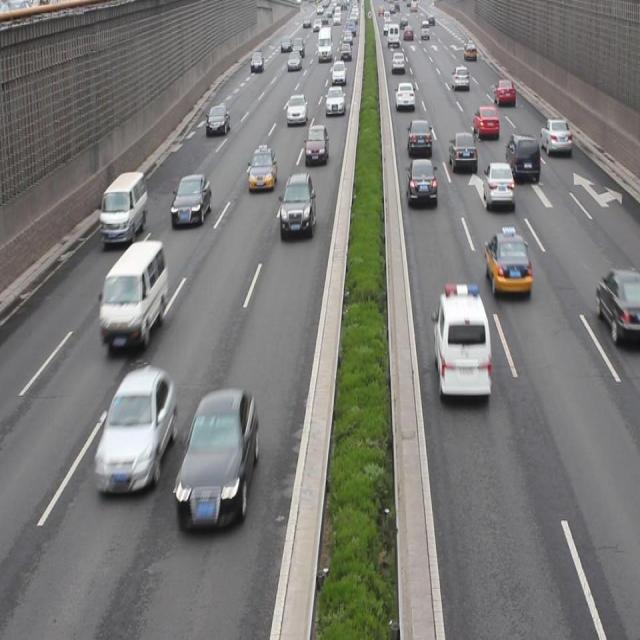car: (173, 386, 257, 528), (94, 368, 176, 492), (594, 266, 640, 344), (484, 227, 530, 300), (278, 174, 315, 238), (170, 174, 211, 227), (504, 132, 540, 184), (482, 161, 514, 211), (404, 157, 436, 204), (248, 143, 276, 191), (446, 130, 476, 174), (539, 118, 570, 156), (406, 118, 431, 158), (304, 124, 328, 165), (471, 104, 499, 138), (206, 102, 230, 136), (286, 94, 306, 125)
truck: (100, 240, 167, 350), (433, 283, 490, 401), (101, 172, 148, 244)
